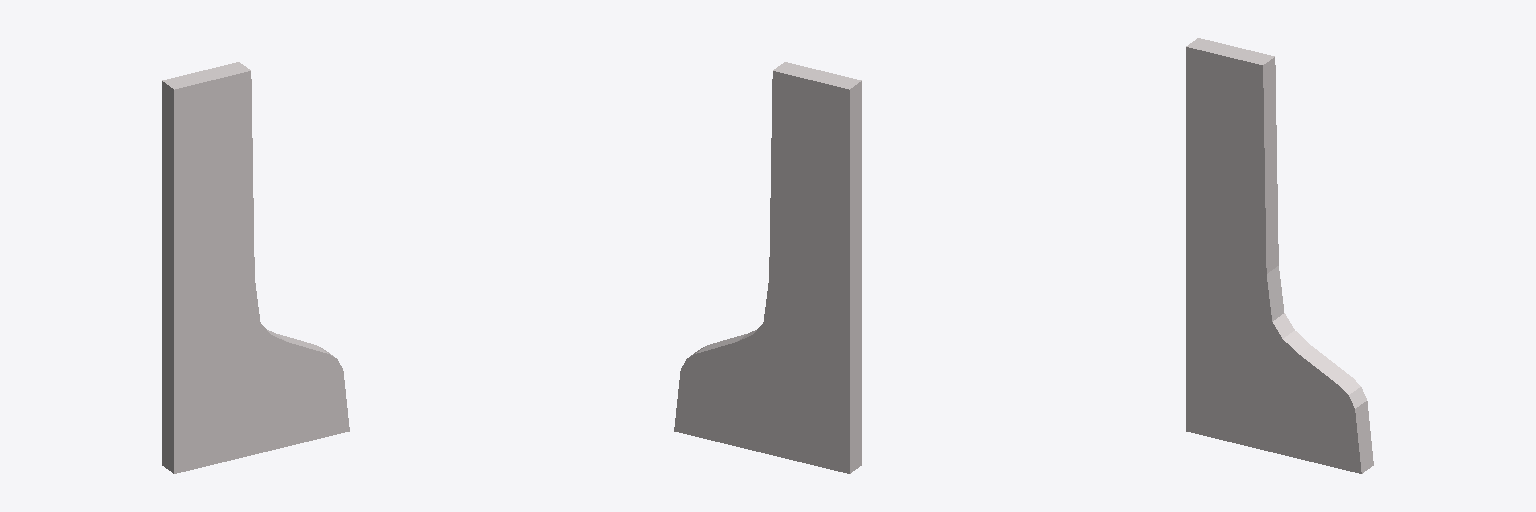
Rendered from control.obj.
3 views of the same model, side by side, from view 1: azimuth 30°, elevation 25°; view 2: azimuth 150°, elevation 25°; view 3: azimuth 330°, elevation 25° (orthographic).
Parts seen in each view (by area): view 1: object_1; view 2: object_1; view 3: object_1.
Part boxes in pixels (bbox=[...]): object_1: bbox=[162, 62, 349, 473]; object_1: bbox=[674, 62, 861, 473]; object_1: bbox=[1186, 38, 1373, 473].
Bounding box in the file's own units: 12.42 × 26 × 1.5.